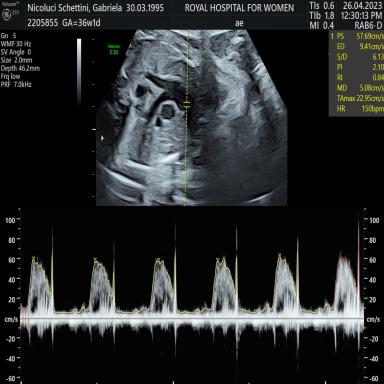Ultrasound-Waves: (25, 216, 364, 384)
